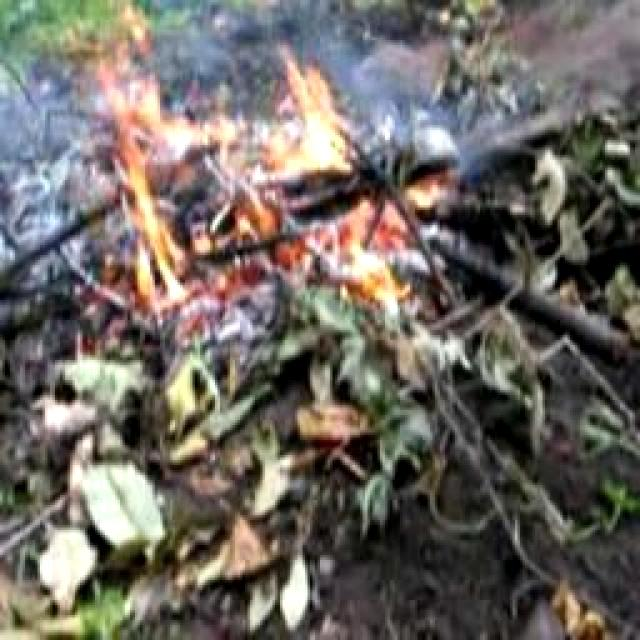fire: (99, 39, 414, 301)
